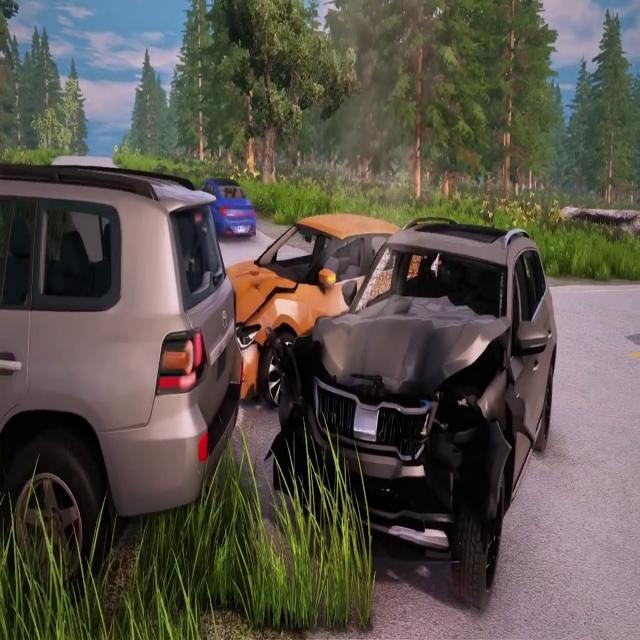accident: (217, 205, 558, 606)
